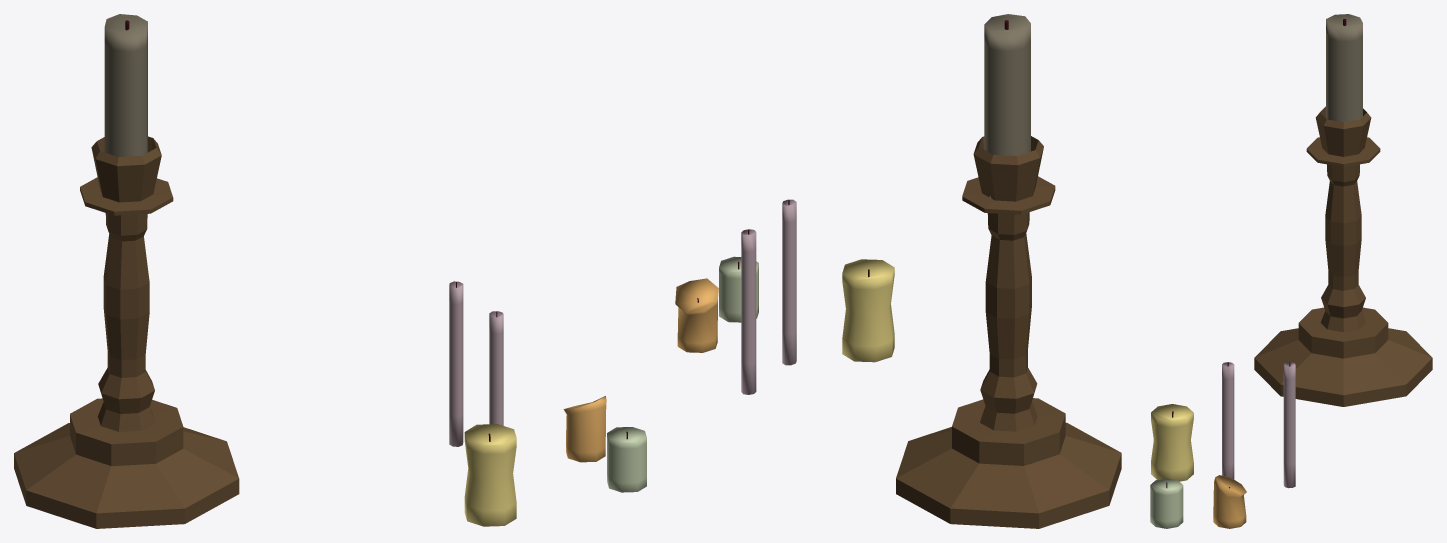
Rendered from Candelabrum).fbx.
3 views of the same model, side by side, from view 1: azimuth 30°, elevation 25°; view 2: azimuth 150°, elevation 25°; view 3: azimuth 270°, elevation 25° (orthographic). The views are drawn at different scales.
Visible parts, largest first — view 1: Candelabrum1.001, Cube.009, Candle3.001, Candle2.001, Candle4, Candle1.001, Candle5; view 2: Candelabrum1.001, Cube.009, Candle3.001, Candle1.001, Candle4, Candle5, Candle2.001; view 3: Candelabrum1.001, Cube.009, Candle3.001, Candle4, Candle2.001, Candle1.001, Candle5.
Boxes of the visible parts, x1=… form: Candelabrum1.001: x1=14, y1=136, x2=239, y2=528; Cube.009: x1=104, y1=14, x2=147, y2=156; Candle3.001: x1=464, y1=424, x2=516, y2=526; Candle2.001: x1=607, y1=427, x2=646, y2=492; Candle4: x1=449, y1=281, x2=463, y2=446; Candle1.001: x1=563, y1=396, x2=606, y2=462; Candle5: x1=489, y1=311, x2=503, y2=425; Candelabrum1.001: x1=896, y1=136, x2=1121, y2=528; Cube.009: x1=984, y1=14, x2=1030, y2=198; Candle3.001: x1=842, y1=259, x2=894, y2=362; Candle1.001: x1=675, y1=278, x2=718, y2=352; Candle4: x1=741, y1=229, x2=756, y2=394; Candle5: x1=782, y1=199, x2=796, y2=365; Candle2.001: x1=719, y1=256, x2=758, y2=322; Candelabrum1.001: x1=1254, y1=106, x2=1432, y2=406; Cube.009: x1=1326, y1=14, x2=1362, y2=150; Candle3.001: x1=1151, y1=404, x2=1193, y2=481; Candle4: x1=1283, y1=362, x2=1295, y2=488; Candle2.001: x1=1150, y1=478, x2=1183, y2=528; Candle1.001: x1=1213, y1=475, x2=1246, y2=528; Candle5: x1=1222, y1=362, x2=1234, y2=479.
Bounding box in the file's own units: 0.7605 × 0.6797 × 0.4813.
